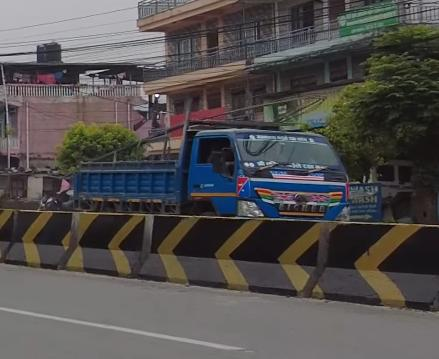mini_truck: (57, 115, 359, 235)
